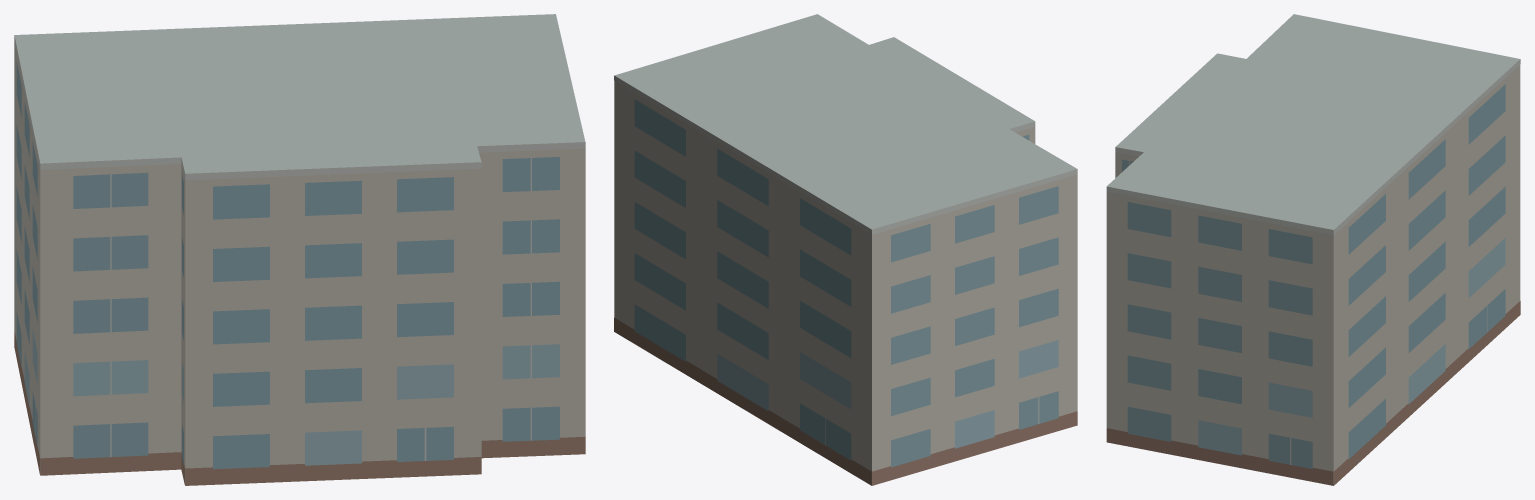
The model's file is survey-upis-32638849.glb.
The picture shows the model from 3 angles, left to right: view 1: azimuth 30°, elevation 25°; view 2: azimuth 150°, elevation 25°; view 3: azimuth 270°, elevation 25°; orthographic projection. The views are drawn at different scales.
Visible parts, largest first — view 1: survey-upis-32638849.tmp; view 2: survey-upis-32638849.tmp; view 3: survey-upis-32638849.tmp.
Boxes of the visible parts, x1,y1,x2,y2 form: survey-upis-32638849.tmp: (14, 14, 585, 485); survey-upis-32638849.tmp: (614, 14, 1077, 485); survey-upis-32638849.tmp: (1106, 14, 1520, 485).
Size of the model in its own units: 21.38 by 11.8 by 17.31.
